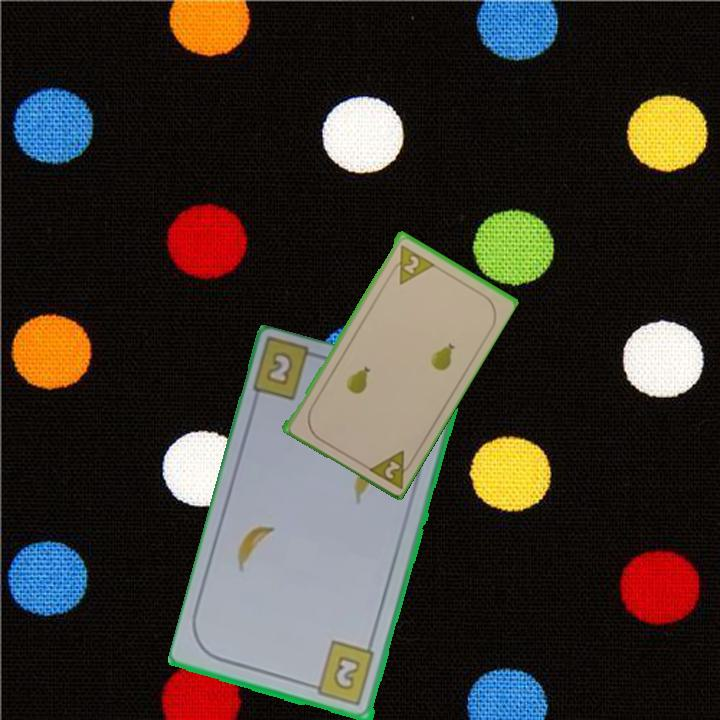2b: (305, 638, 378, 709), (262, 348, 297, 389)
2p: (363, 446, 418, 491), (386, 241, 436, 287)
